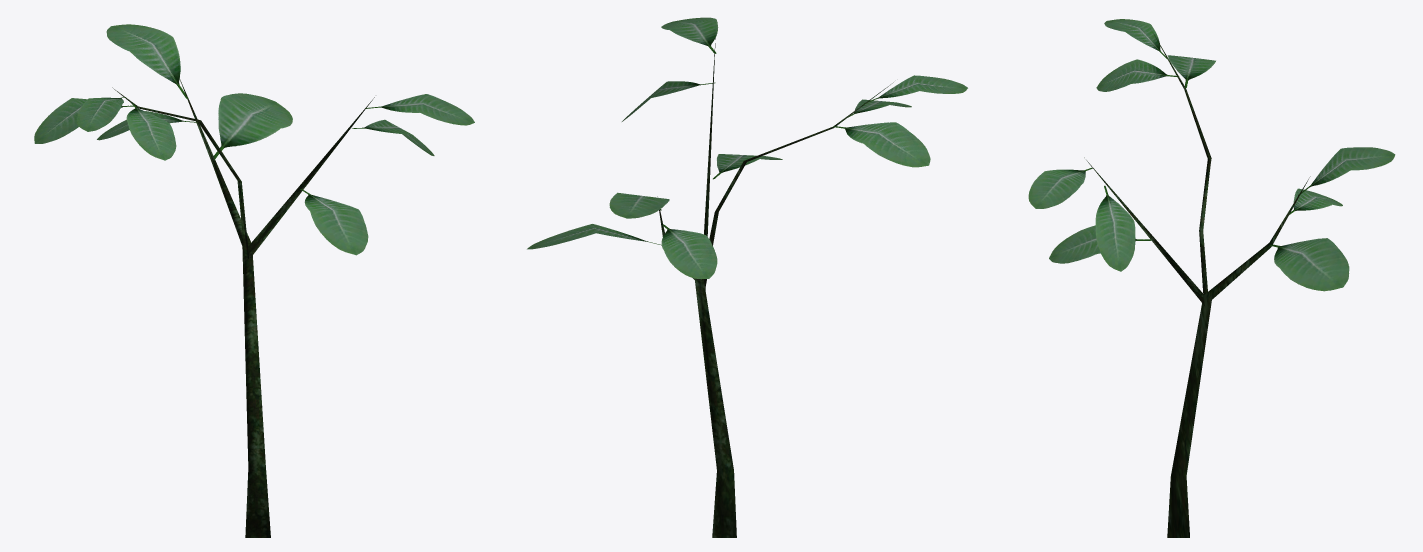
Rendered from leaf_sapling_a1_l1.fbx.
3 renders of one model, left to right at view 1: azimuth 30°, elevation 25°; view 2: azimuth 150°, elevation 25°; view 3: azimuth 270°, elevation 25°, orthographic. The views are drawn at different scales.
Visible parts, largest first — view 1: mesh_node; view 2: mesh_node; view 3: mesh_node.
Part boxes in pixels (x1,y1,x2,y2): mesh_node: (34, 24, 474, 537); mesh_node: (527, 17, 967, 537); mesh_node: (1028, 19, 1395, 537).
Bounding box in the file's own units: 1.49 × 1.84 × 1.53.
Materials: 1 (1 with a texture image).
